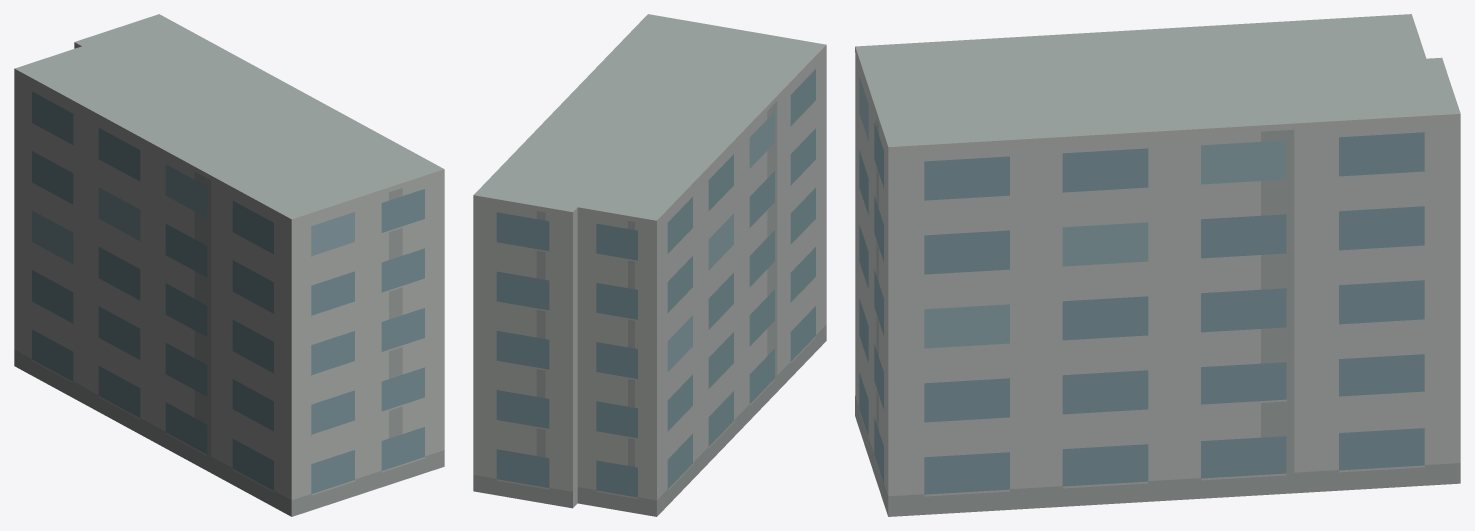
The model's file is survey-upis-32761584.glb.
3 views of the same model, side by side, from view 1: azimuth 30°, elevation 25°; view 2: azimuth 150°, elevation 25°; view 3: azimuth 270°, elevation 25° (orthographic). The views are drawn at different scales.
Parts seen in each view (by area): view 1: survey-upis-32761584.tmp; view 2: survey-upis-32761584.tmp; view 3: survey-upis-32761584.tmp.
Boxes of the visible parts, x1=… form: survey-upis-32761584.tmp: x1=14, y1=14, x2=444, y2=516; survey-upis-32761584.tmp: x1=473, y1=14, x2=826, y2=516; survey-upis-32761584.tmp: x1=855, y1=14, x2=1460, y2=516.
Bounding box in the file's own units: 11.28 × 14.6 × 21.68.
